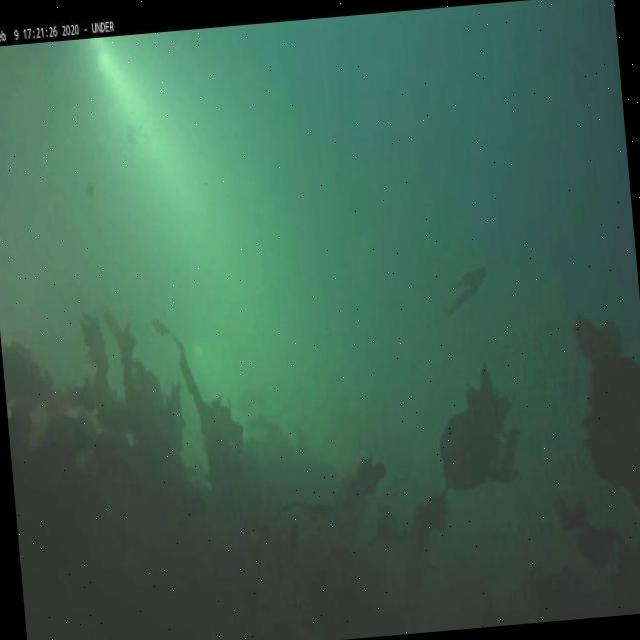fish: (439, 267, 492, 318)
